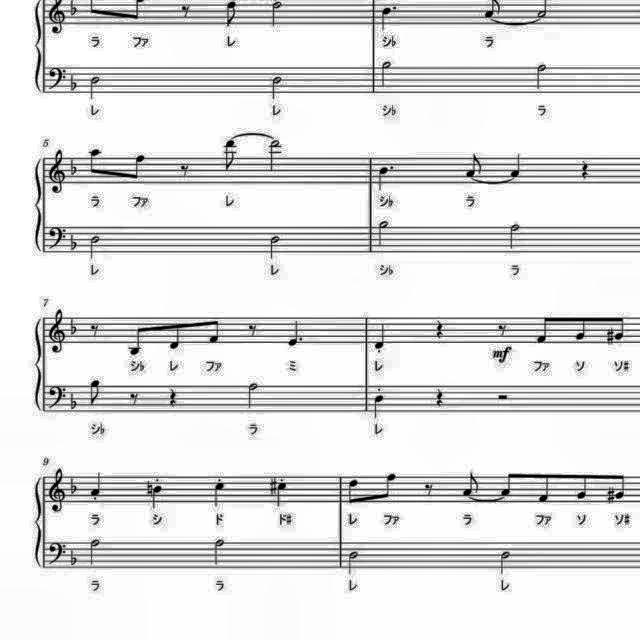Bass-clef: (44, 381, 68, 411), (44, 62, 68, 92), (44, 224, 68, 252), (44, 540, 68, 568)
Bemol: (67, 224, 83, 256), (66, 312, 82, 340), (68, 469, 82, 499), (68, 68, 82, 94), (66, 155, 82, 177), (68, 546, 80, 570), (68, 390, 80, 410)
Diez: (602, 482, 620, 506), (142, 479, 154, 505), (602, 326, 614, 348)
Eighth-note: (126, 324, 150, 361), (85, 144, 108, 180), (126, 149, 150, 183), (219, 138, 241, 174), (378, 469, 400, 503), (532, 312, 554, 346), (460, 152, 486, 180), (458, 469, 482, 499), (166, 318, 186, 354), (534, 468, 554, 504), (204, 316, 224, 349), (570, 314, 590, 346), (572, 468, 592, 500), (498, 468, 518, 500), (612, 470, 632, 502), (86, 376, 105, 408), (345, 474, 363, 506), (612, 312, 630, 344), (220, 0, 240, 28)
Eighth-rest: (176, 0, 196, 22), (126, 387, 144, 409), (176, 162, 194, 182), (419, 480, 437, 500), (243, 320, 260, 340), (88, 319, 104, 339), (494, 319, 510, 339)
Half-note: (266, 138, 286, 174), (534, 59, 554, 93), (86, 535, 105, 569), (495, 546, 515, 578), (376, 58, 396, 90), (209, 536, 229, 568), (374, 218, 394, 250), (268, 70, 288, 102), (504, 220, 524, 252), (266, 231, 286, 261), (242, 382, 260, 414), (86, 232, 105, 262), (87, 72, 105, 102), (345, 548, 363, 578), (268, 0, 286, 28)
Half-rest: (492, 389, 512, 403)
Quarter-dot: (377, 1, 401, 32), (374, 162, 398, 192), (284, 316, 306, 348)
Quarter-note: (372, 322, 392, 354), (209, 478, 229, 509), (505, 150, 525, 178), (89, 471, 107, 502), (147, 481, 165, 511), (371, 392, 389, 420), (272, 480, 290, 508)
Quarter-rest: (430, 382, 448, 410), (165, 383, 183, 409), (431, 315, 447, 341), (578, 156, 594, 182)
Treble-clef: (44, 146, 70, 198), (45, 306, 69, 358), (46, 467, 68, 517)
